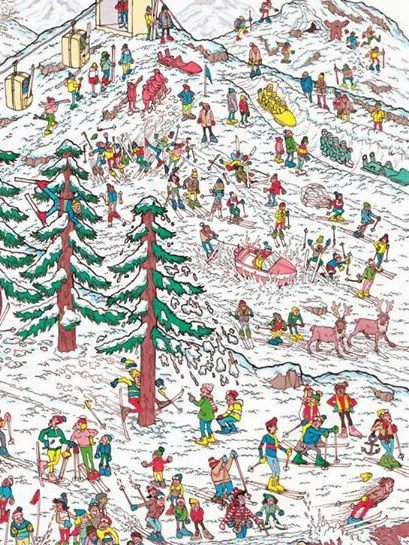waldo: (232, 485, 247, 505)
